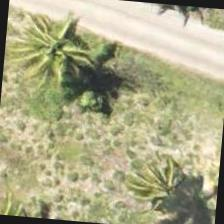Kelapa_Sawit: (1, 1, 98, 98), (112, 133, 211, 223)
